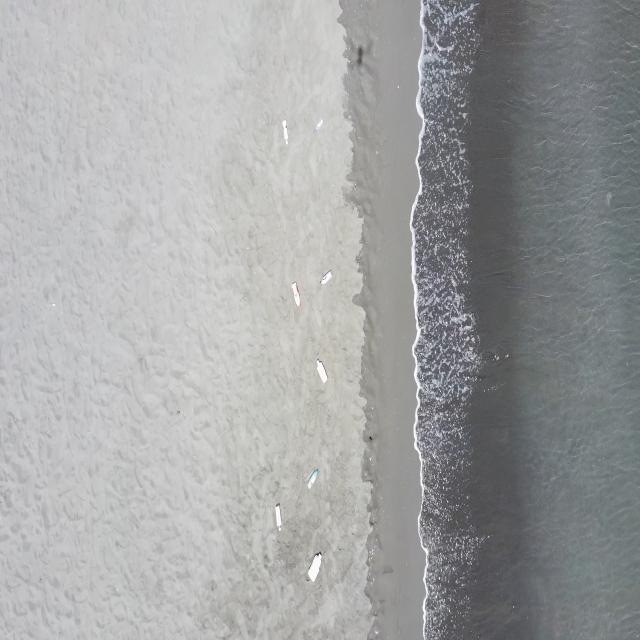Garbage: (307, 552, 320, 580), (316, 359, 327, 382), (307, 467, 319, 487), (292, 281, 299, 306), (281, 120, 287, 143), (320, 271, 331, 283), (276, 503, 280, 529), (316, 119, 322, 131)
